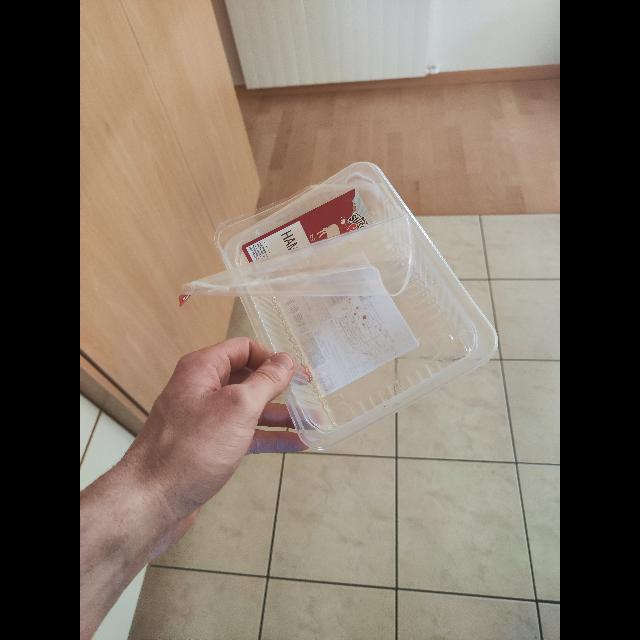Plastic: (176, 148, 502, 458)
